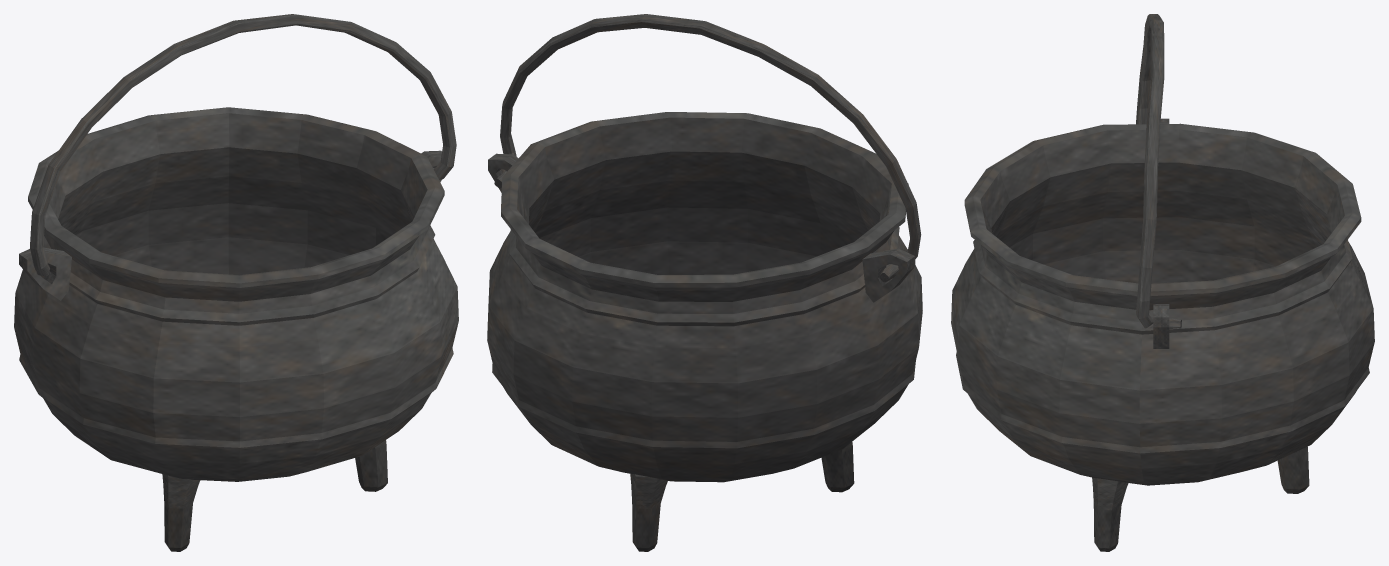
File: Panela-de-Ferro.glb
3 views of the same model, side by side, from view 1: azimuth 30°, elevation 25°; view 2: azimuth 150°, elevation 25°; view 3: azimuth 270°, elevation 25° (orthographic). The views are drawn at different scales.
Parts seen in each view (by area): view 1: Panela, Alça; view 2: Panela, Alça; view 3: Panela, Alça.
Part boxes in pixels (x1,y1,x2,y2): Panela: (14,107,458,551); Alça: (30,14,456,276); Panela: (487,112,922,551); Alça: (494,14,921,282); Panela: (951,118,1374,551); Alça: (1136,14,1181,328).
Size of the model in its own units: 0.3778 by 0.404 by 0.3392.
1 material, 1 textured.
